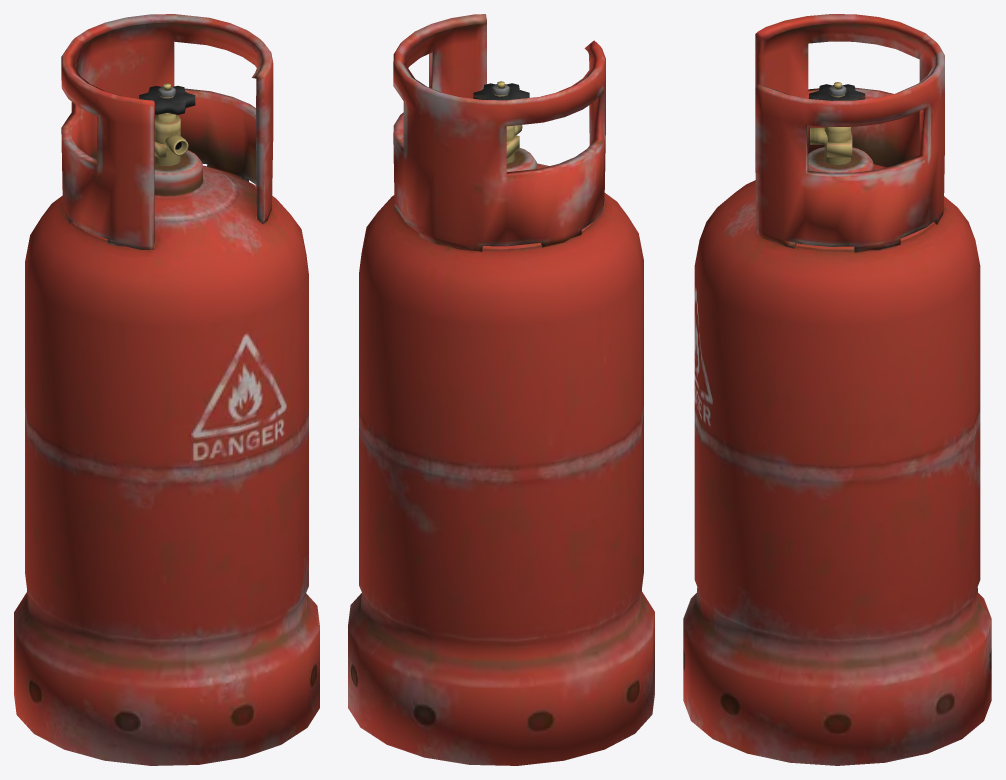
File: gasbottle.glb
3 views of the same model, side by side, from view 1: azimuth 30°, elevation 25°; view 2: azimuth 150°, elevation 25°; view 3: azimuth 270°, elevation 25° (orthographic).
Visible parts, largest first — view 1: gas_bottle_fire_gas_bottle_fire_0; view 2: gas_bottle_fire_gas_bottle_fire_0; view 3: gas_bottle_fire_gas_bottle_fire_0.
Part boxes in pixels (x1,y1,x2,y2): gas_bottle_fire_gas_bottle_fire_0: [14, 14, 319, 765]; gas_bottle_fire_gas_bottle_fire_0: [348, 14, 654, 765]; gas_bottle_fire_gas_bottle_fire_0: [683, 14, 991, 765].
Bounding box in the file's own units: 0.2515 × 0.58 × 0.2515.
Materials: 1 (1 with a texture image).
